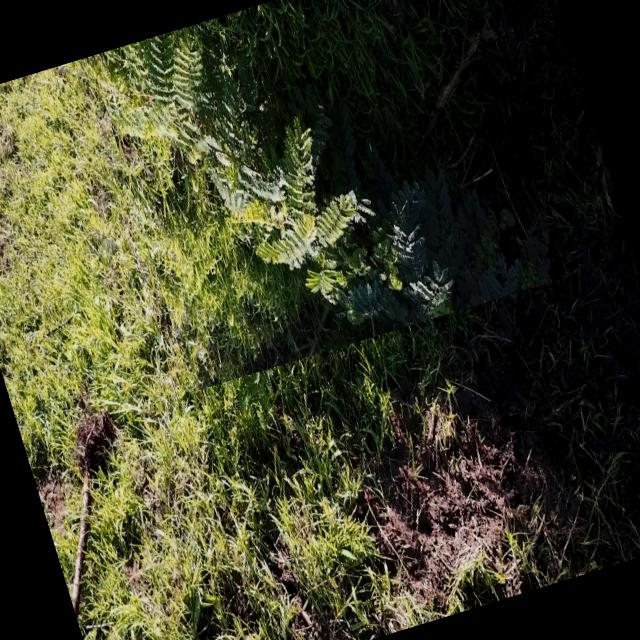Mysore-Thorn-Weed: (90, 0, 571, 391)
